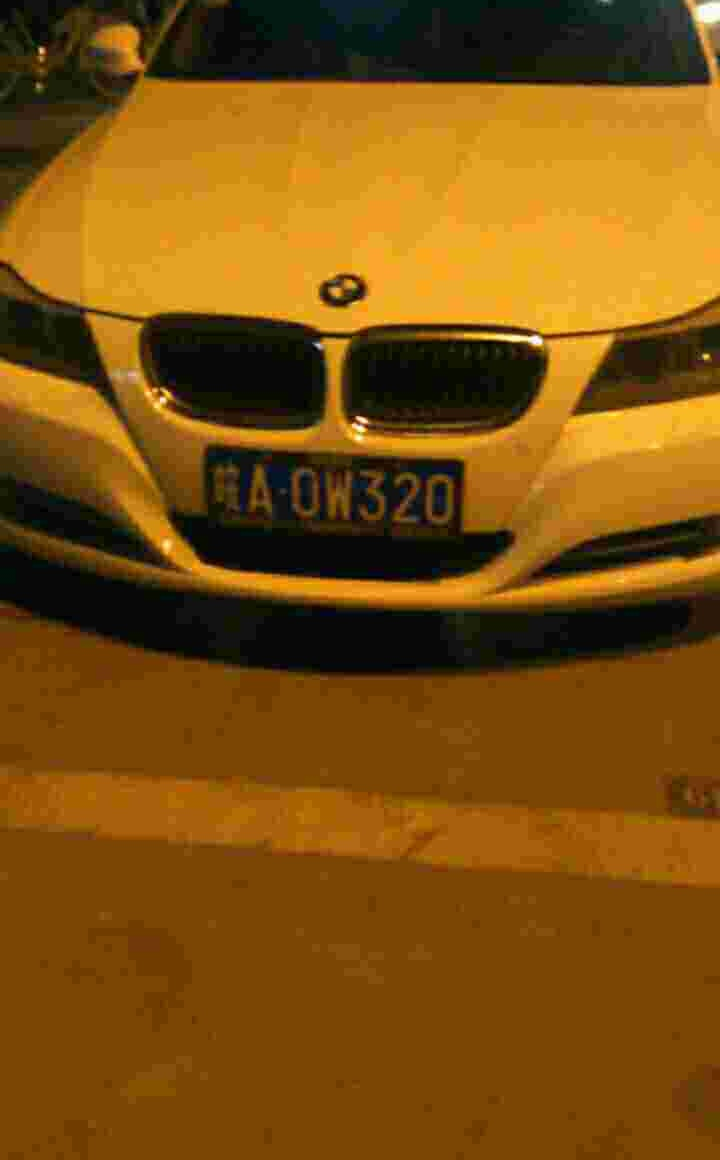license_plate: (198, 455, 465, 533)
